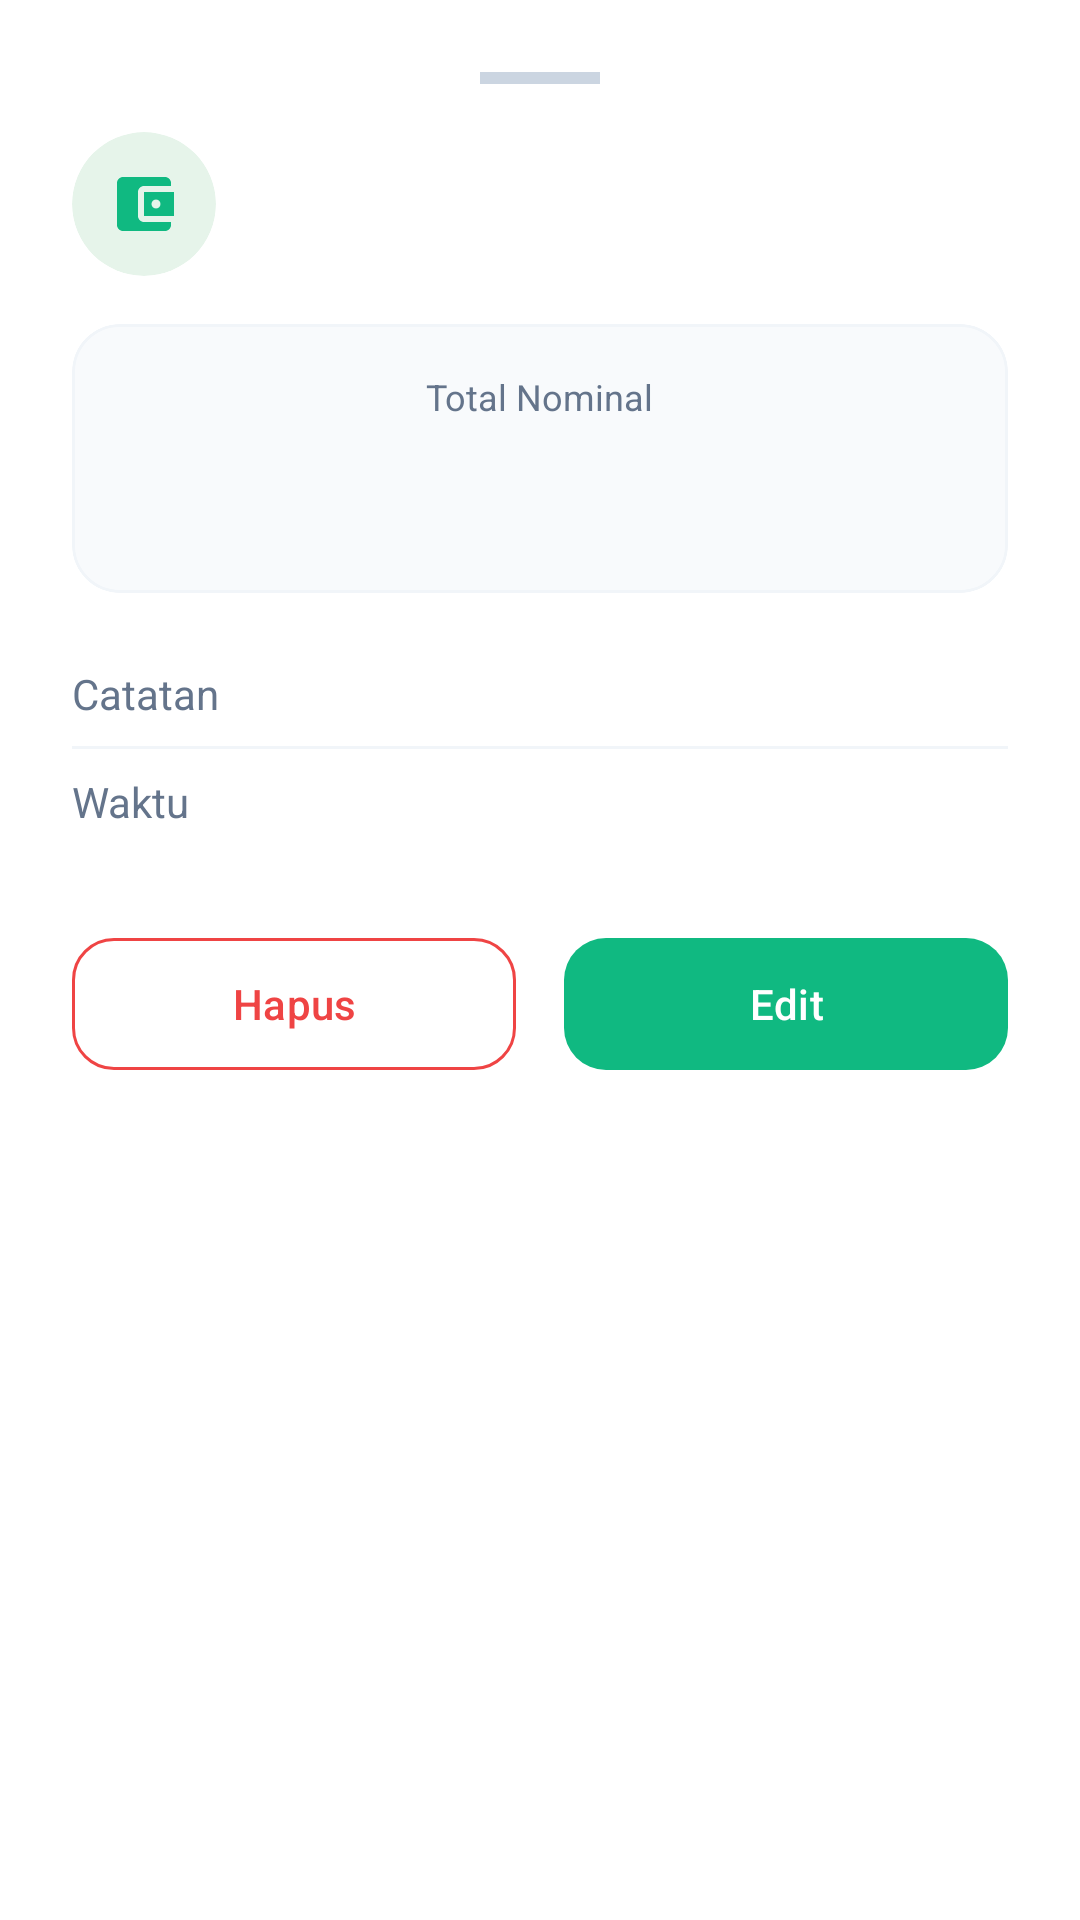

Icons on this 1080w x 1920h Android screen, each with the point to tap as [x,y]:
wallet: [145,204]
